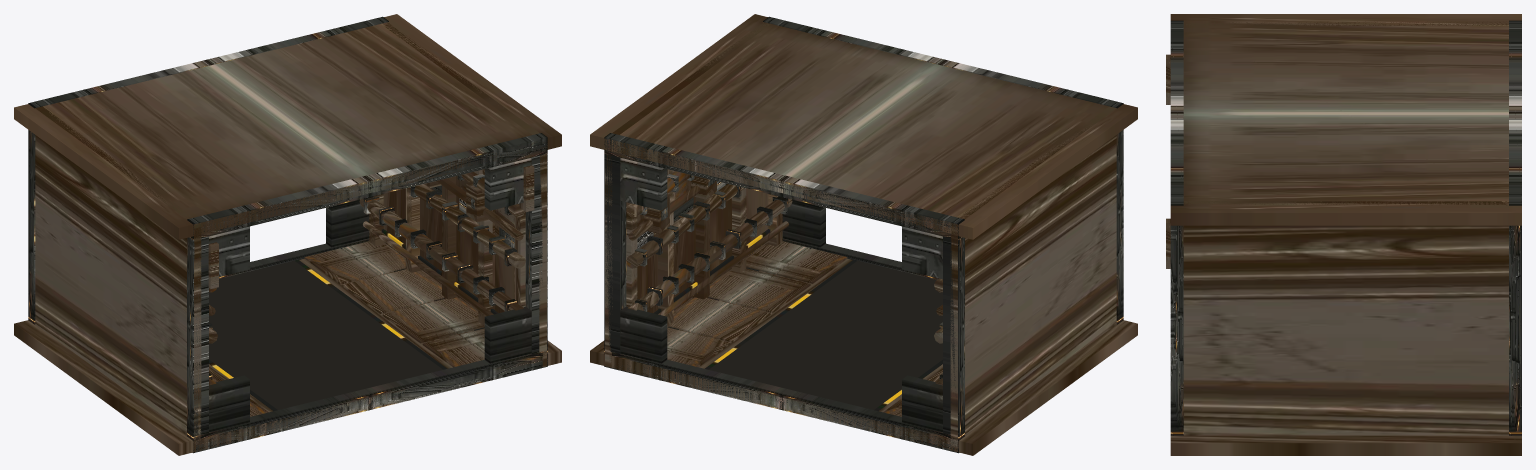
The model's file is hangar_koridor_ankora.glb.
3 views of the same model, side by side, from view 1: azimuth 30°, elevation 25°; view 2: azimuth 150°, elevation 25°; view 3: azimuth 270°, elevation 25° (orthographic). The views are drawn at different scales.
Parts seen in each view (by area): view 1: LOD0_koridor; view 2: LOD0_koridor; view 3: LOD0_koridor.
Part boxes in pixels (<box>): LOD0_koridor: <box>14,14,561,455</box>; LOD0_koridor: <box>590,14,1137,455</box>; LOD0_koridor: <box>1166,14,1521,455</box>.
Size of the model in its own units: 10.2 by 5.84 by 7.7.
1 material, 1 textured.
